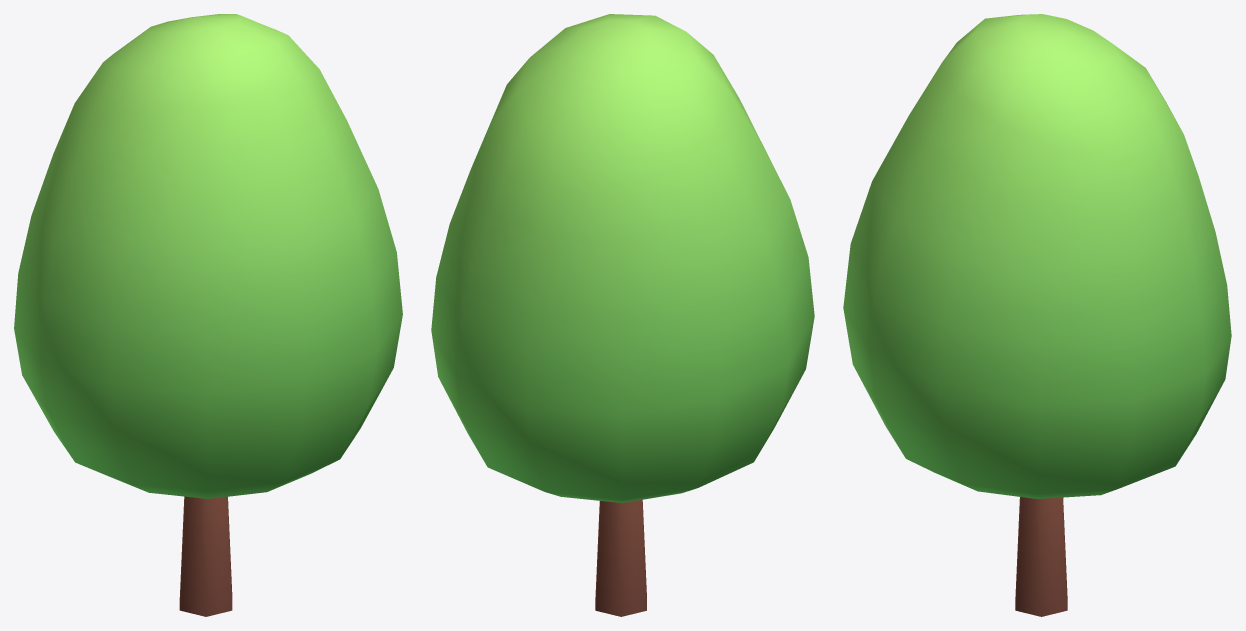
File: city2-tree-06.glb
The picture shows the model from 3 angles, left to right: view 1: azimuth 30°, elevation 25°; view 2: azimuth 150°, elevation 25°; view 3: azimuth 270°, elevation 25°; orthographic projection.
Parts seen in each view (by area): view 1: Tree_06; view 2: Tree_06; view 3: Tree_06.
Part boxes in pixels (box(x1,y1,x2,y2)): Tree_06: box(14, 14, 402, 616); Tree_06: box(431, 14, 814, 616); Tree_06: box(843, 14, 1231, 616).
Size of the model in its own units: 3.63 by 6.03 by 3.65.
1 material, 1 textured.
